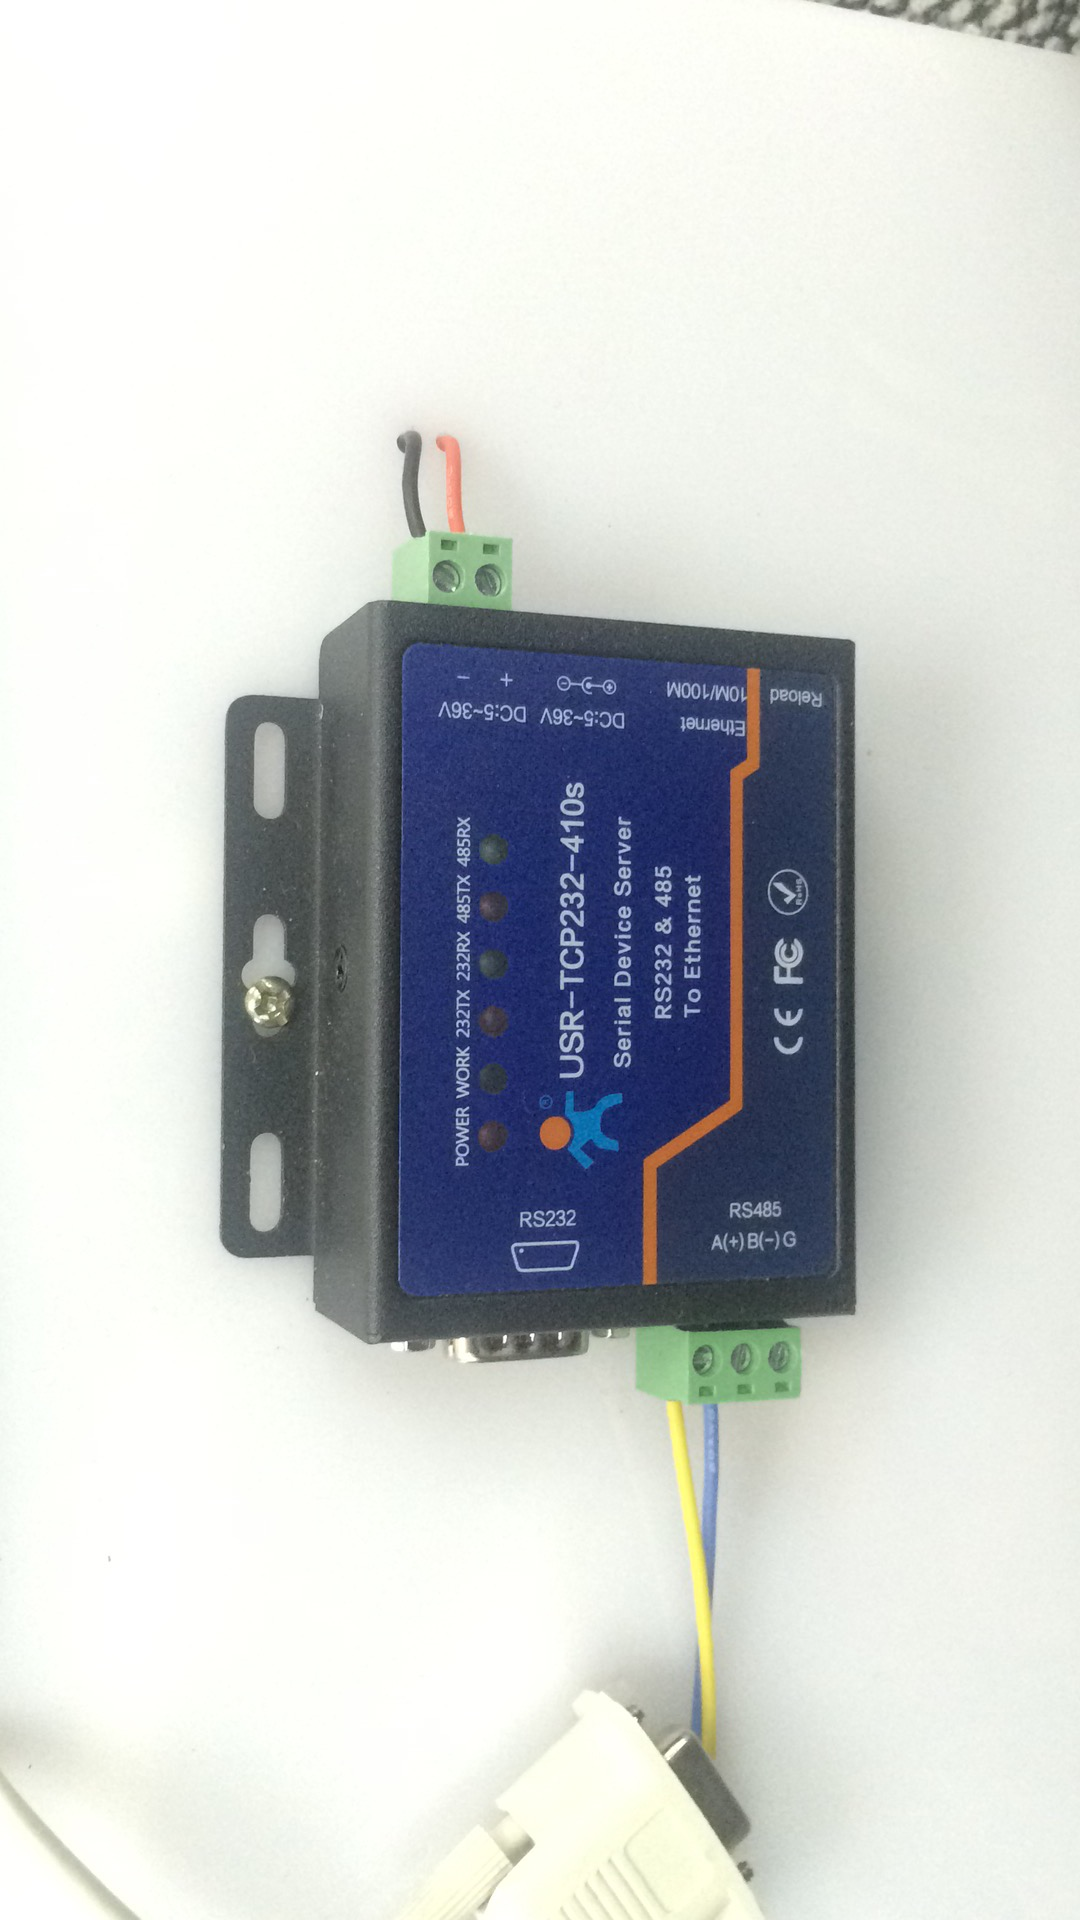modbus bridge: (183, 522, 913, 1428)
